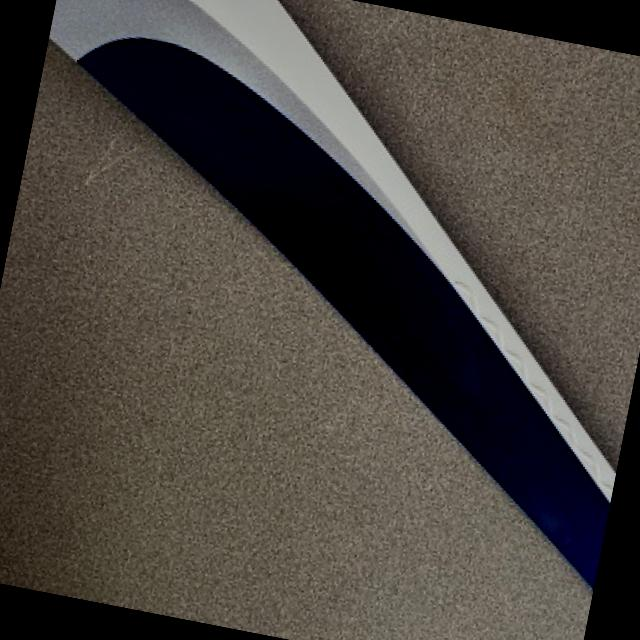healthy: (0, 39, 592, 640)
